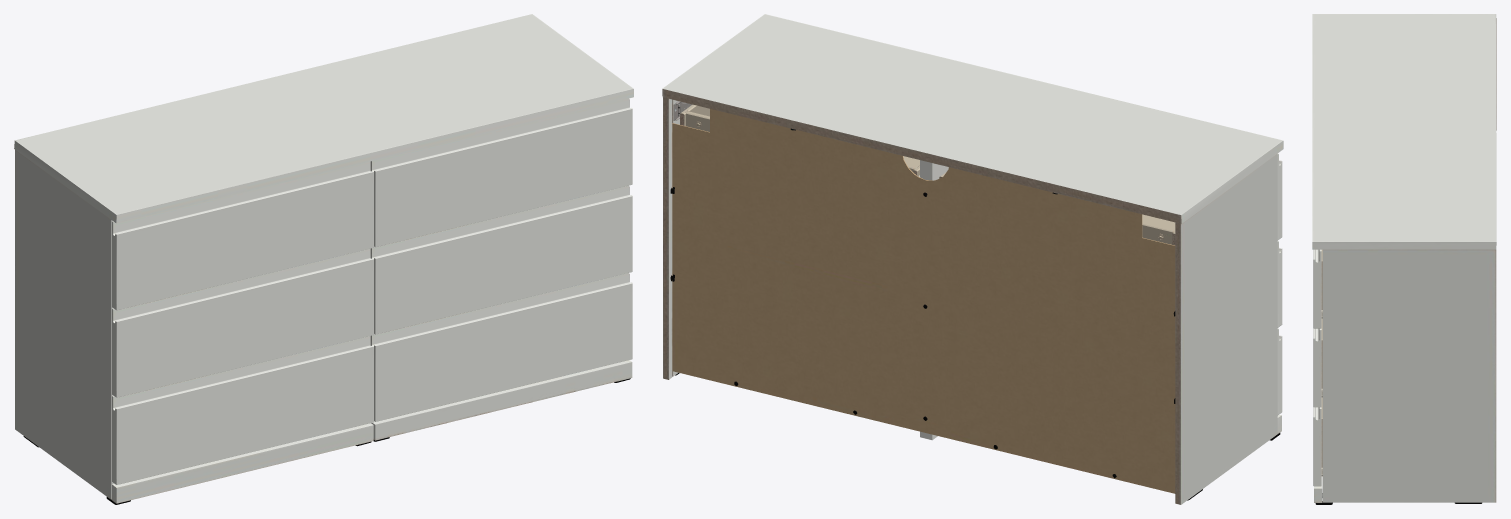
Rendered from drawer-1.glb.
3 views of the same model, side by side, from view 1: azimuth 30°, elevation 25°; view 2: azimuth 150°, elevation 25°; view 3: azimuth 270°, elevation 25° (orthographic). The views are drawn at different scales.
Visible parts, largest first — view 1: ASY_LPT01_60561248_S01_NV01 (×6), ASY_ART_60561248_S01_NV01; view 2: ASY_ART_60561248_S01_NV01, ASY_LPT01_60561248_S01_NV01 (×2); view 3: ASY_ART_60561248_S01_NV01, ASY_LPT01_60561248_S01_NV01 (×3).
Part boxes in pixels (bbox=[...]): ASY_LPT01_60561248_S01_NV01 (×6): bbox=[112, 98, 632, 485]; ASY_ART_60561248_S01_NV01: bbox=[14, 14, 633, 504]; ASY_ART_60561248_S01_NV01: bbox=[662, 14, 1283, 504]; ASY_LPT01_60561248_S01_NV01 (×2): bbox=[680, 104, 1282, 245]; ASY_ART_60561248_S01_NV01: bbox=[1312, 14, 1496, 504]; ASY_LPT01_60561248_S01_NV01 (×3): bbox=[1313, 249, 1322, 486].
Size of the model in its own units: 1.4 by 0.7524 by 0.4766.
2 materials, 2 textured.
